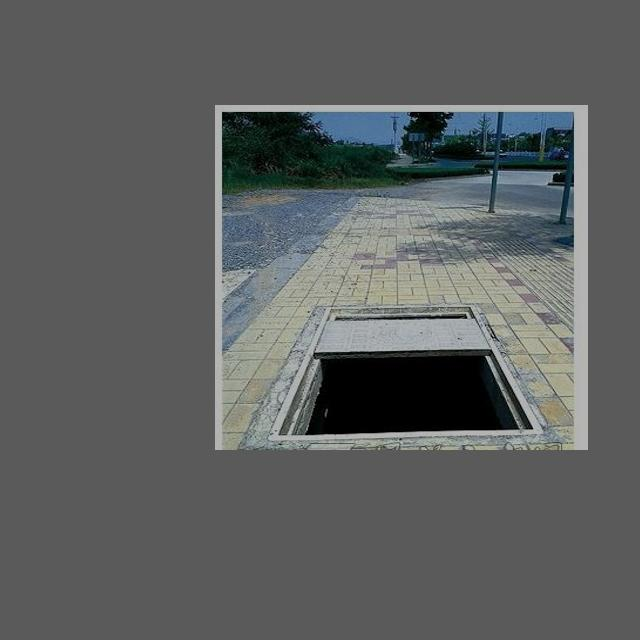lose: (260, 299, 562, 449)
